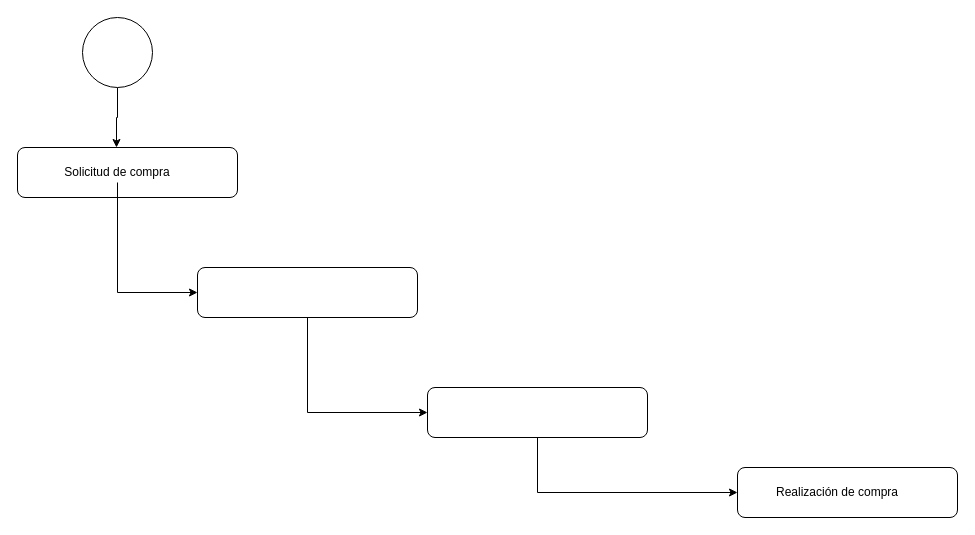
The diagram is 975 pixels wide and 535 high, and some of its shapes have lost their labels. The centre of each missing label's shape, as x and y in pixels:
Orden de compra: (x=307, y=292)
Revisión de compra: (x=537, y=412)
